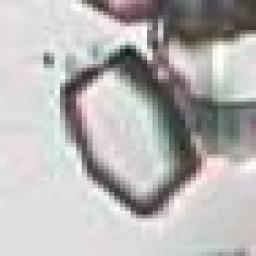crystals: (58, 40, 216, 224)
